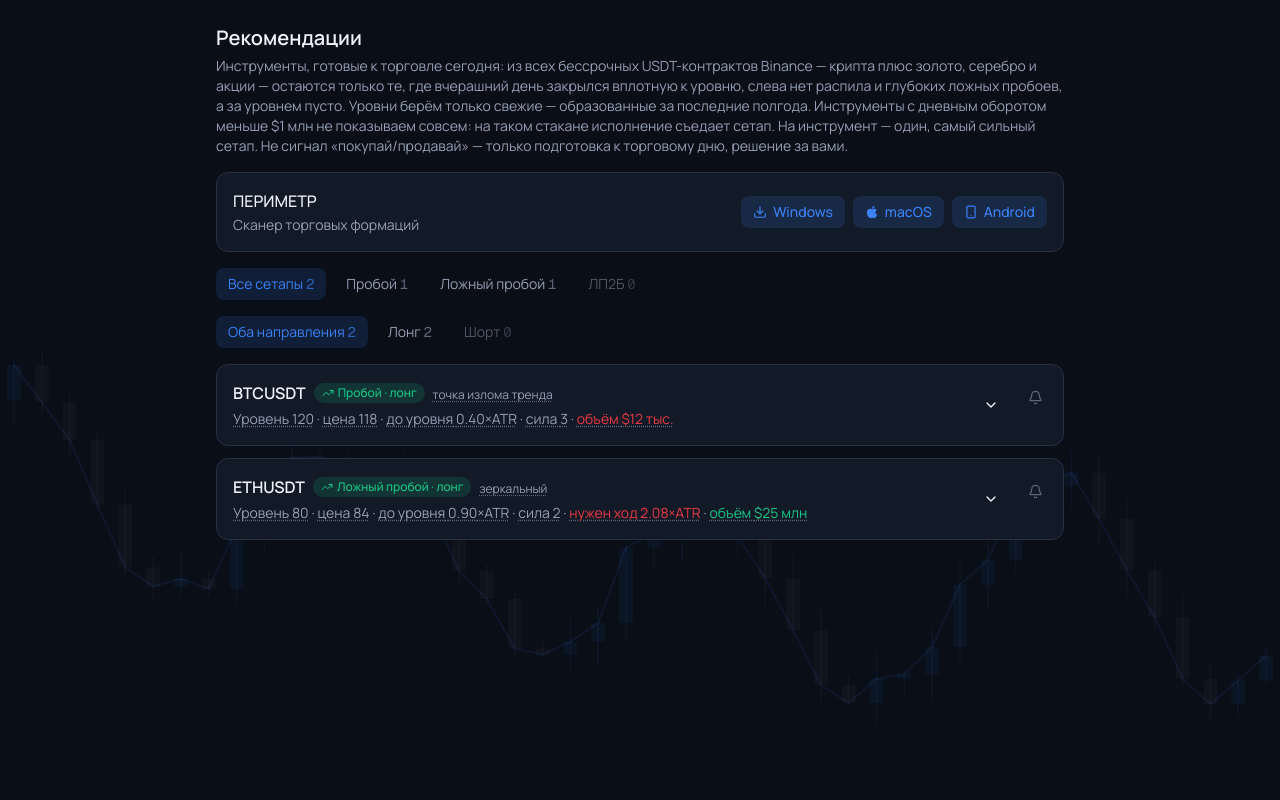
Test: expanded setup card › marks the БСУ bar on the chart and dims the still-forming one
The width and height of the screenshot is (1280, 800).
Expected: the text "Пробой · лонг" is shown, [314,383,425,403]
Click the text "BTCUSDT". click: (269, 393)
box: [233,381,306,405]
(page scrolled)
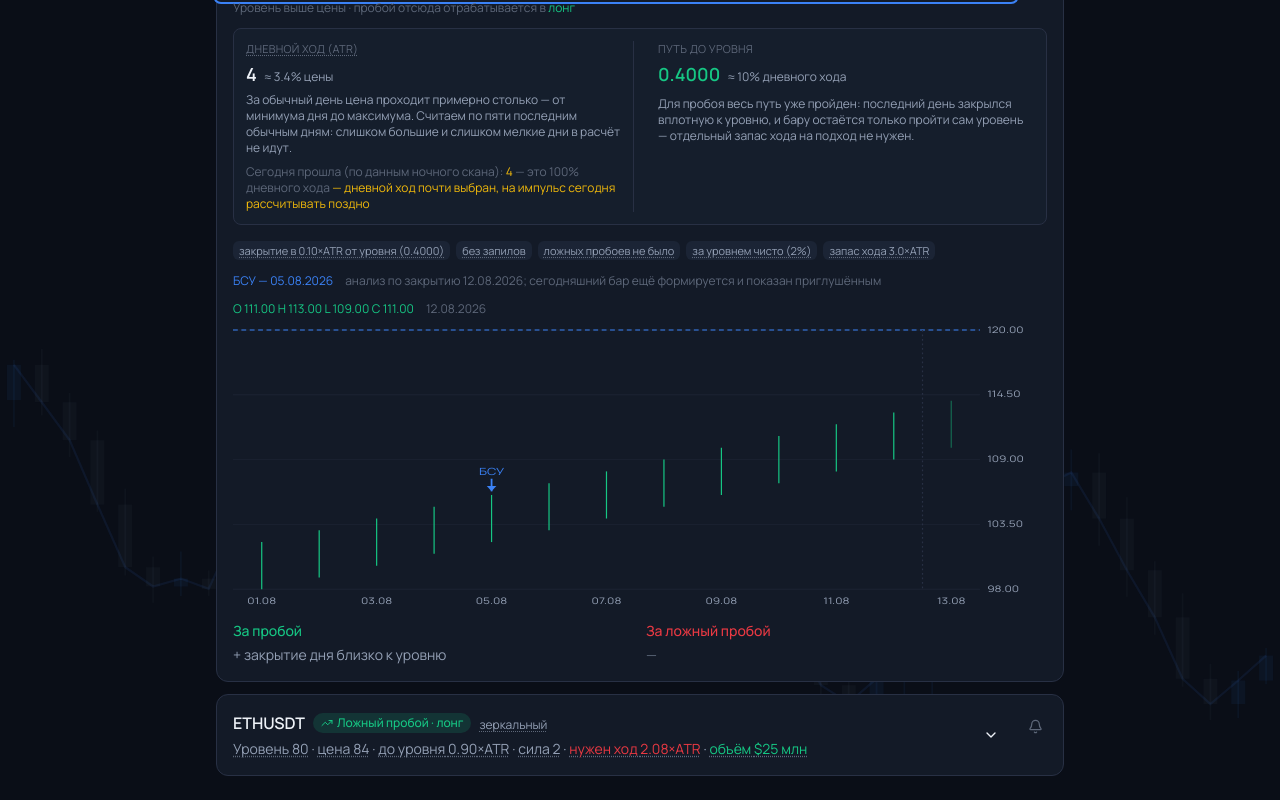
Expected: the picture named "Дневной график" shows "БСУ", [479,464,504,477]
